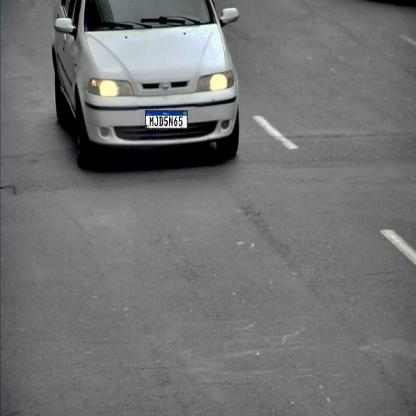PlacaM: (145, 110, 188, 129)
